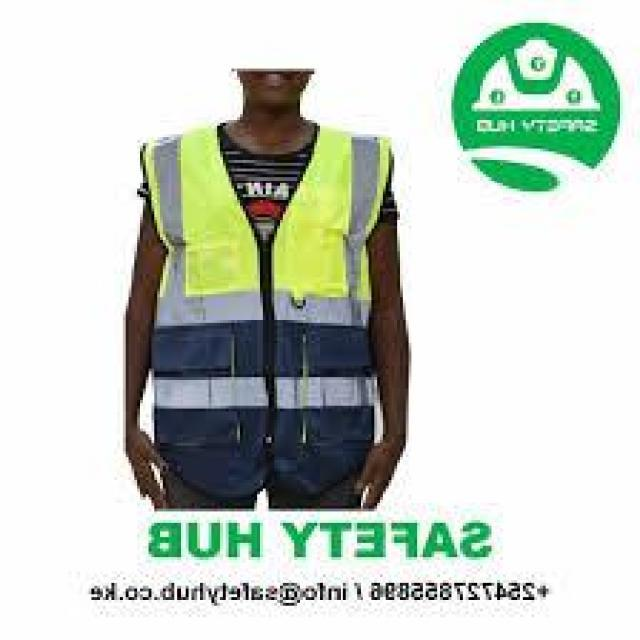reflective_jacket: (126, 120, 417, 420)
